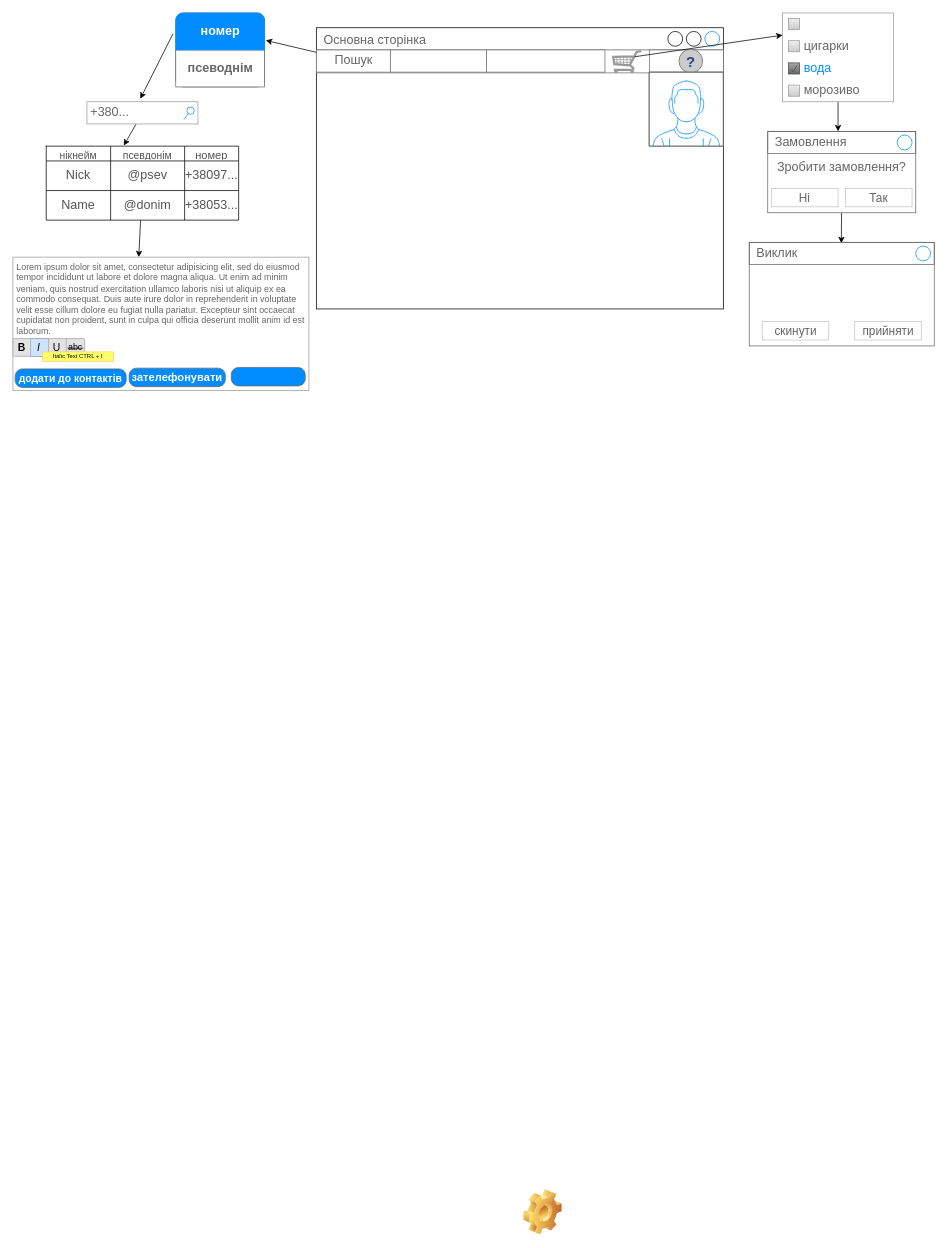
Image size: 947x1248. Some labels were removed from this diagram. Each missing label, with the centre of its shape:
відправити: [268,376]
Контакти: [438,60]
Налаштування: [545,60]
Телефонує "Online-магазин": [841,294]
хліб: [794,24]
